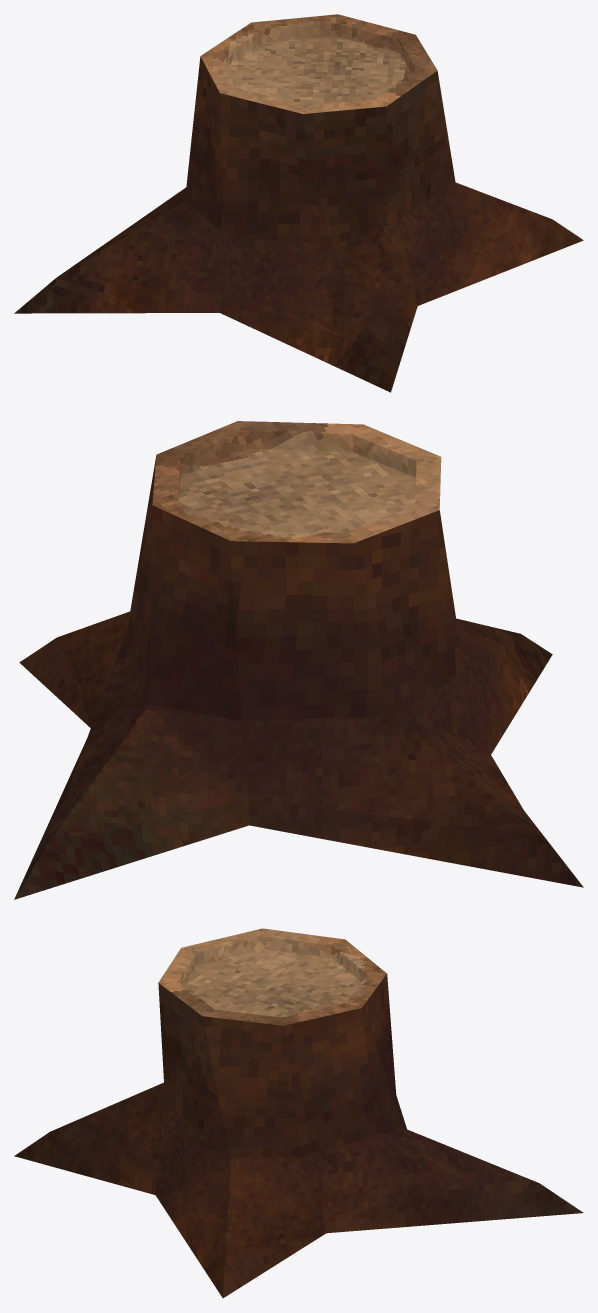
The model's file is stump_01.glb.
3 views of the same model, one above another, from view 1: azimuth 30°, elevation 25°; view 2: azimuth 150°, elevation 25°; view 3: azimuth 270°, elevation 25° (orthographic). The views are drawn at different scales.
Visible parts, largest first — view 1: STUMP_01; view 2: STUMP_01; view 3: STUMP_01.
Part boxes in pixels (x1,y1,x2,y2): STUMP_01: (14,14,583,392); STUMP_01: (14,421,583,899); STUMP_01: (14,928,583,1298).
Bounding box in the file's own units: 3.49 × 1.44 × 3.55.
Materials: 1 (1 with a texture image).
